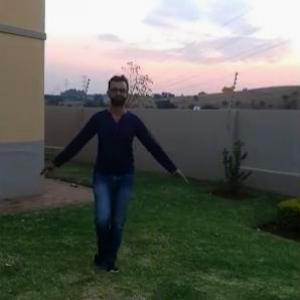land: (62, 84, 165, 264)
